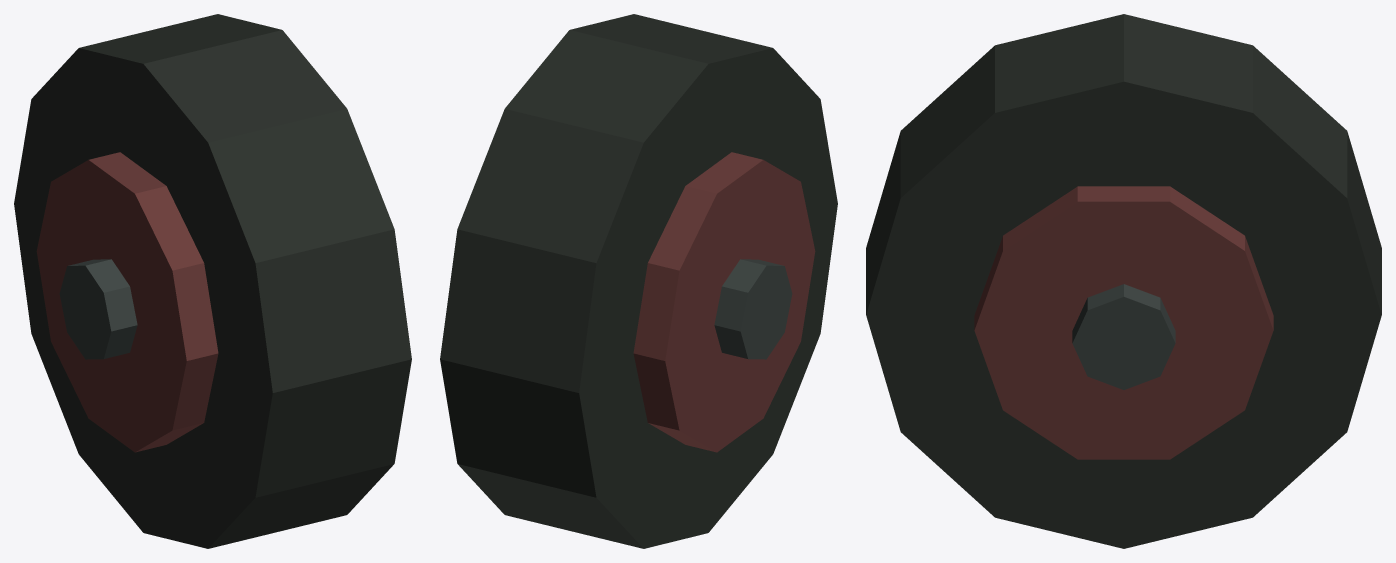
The model's file is cleansweeper_wheel_right.obj.
The picture shows the model from 3 angles, left to right: view 1: azimuth 30°, elevation 25°; view 2: azimuth 150°, elevation 25°; view 3: azimuth 270°, elevation 25°; orthographic projection.
Visible parts, largest first — view 1: cleansweeper_wheel_right; view 2: cleansweeper_wheel_right; view 3: cleansweeper_wheel_right.
Boxes of the visible parts, x1,y1,x2,y2 form: cleansweeper_wheel_right: [14, 14, 411, 548]; cleansweeper_wheel_right: [440, 14, 837, 548]; cleansweeper_wheel_right: [866, 14, 1381, 548].
Size of the model in its own units: 0.165 by 0.29 by 0.29.
